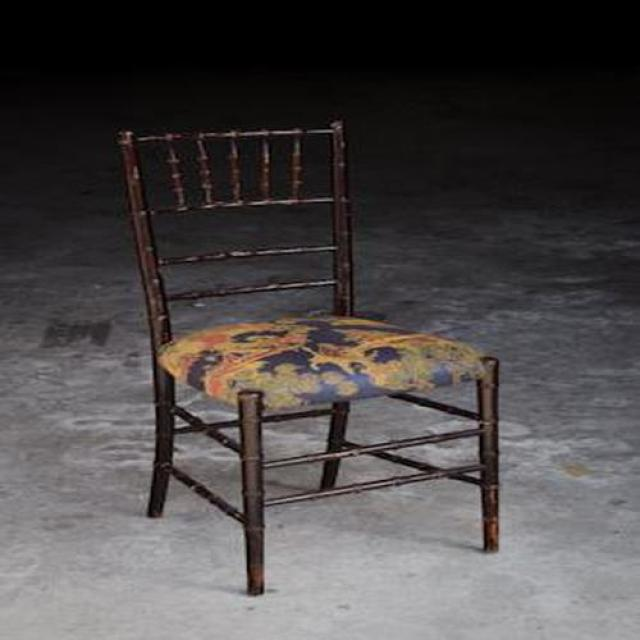chair: (118, 122, 502, 599)
